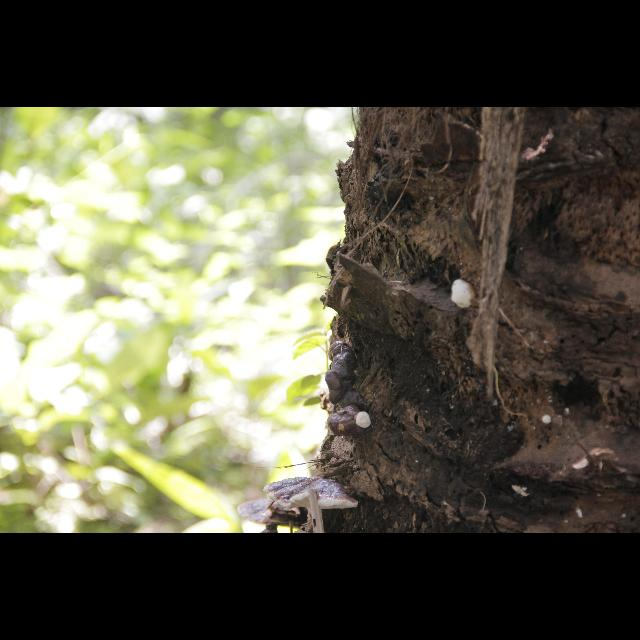ganoderma: (264, 478, 360, 513), (327, 341, 359, 437), (239, 502, 312, 528)
primordium: (450, 280, 478, 311), (356, 412, 373, 430), (541, 416, 553, 427)
